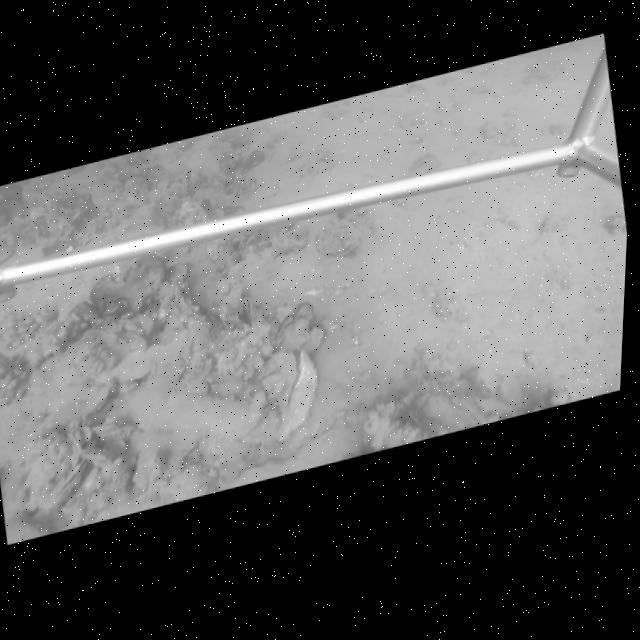Oyster-Closed: (45, 459, 89, 511), (177, 314, 212, 371), (315, 219, 365, 258), (274, 315, 311, 351), (81, 385, 112, 417), (179, 287, 197, 314), (244, 297, 258, 324)
Oyster-Open: (277, 350, 318, 442)
